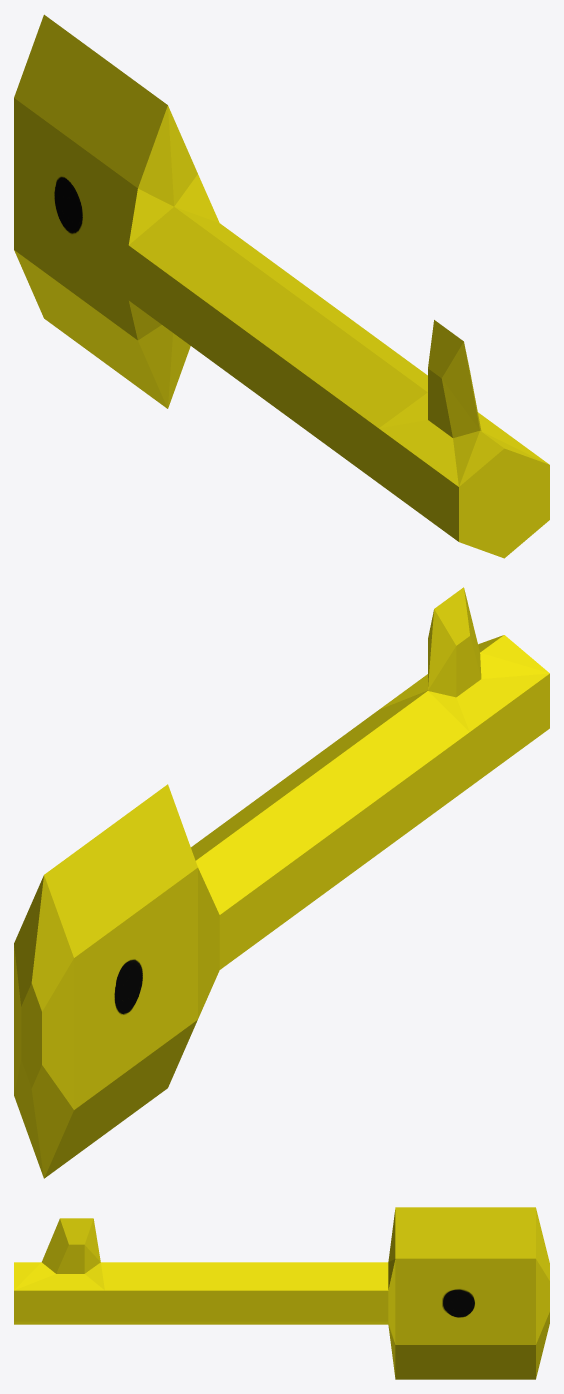
The model's file is key.fbx.
3 views of the same model, one above another, from view 1: azimuth 30°, elevation 25°; view 2: azimuth 150°, elevation 25°; view 3: azimuth 270°, elevation 25° (orthographic). The views are drawn at different scales.
Parts seen in each view (by area): view 1: Cylinder; view 2: Cylinder; view 3: Cylinder.
Boxes of the visible parts, x1=… form: Cylinder: x1=14, y1=14, x2=549, y2=558; Cylinder: x1=14, y1=587, x2=549, y2=1178; Cylinder: x1=14, y1=1207, x2=549, y2=1379.
Bounding box in the file's own units: 26.84 × 85.64 × 241.
